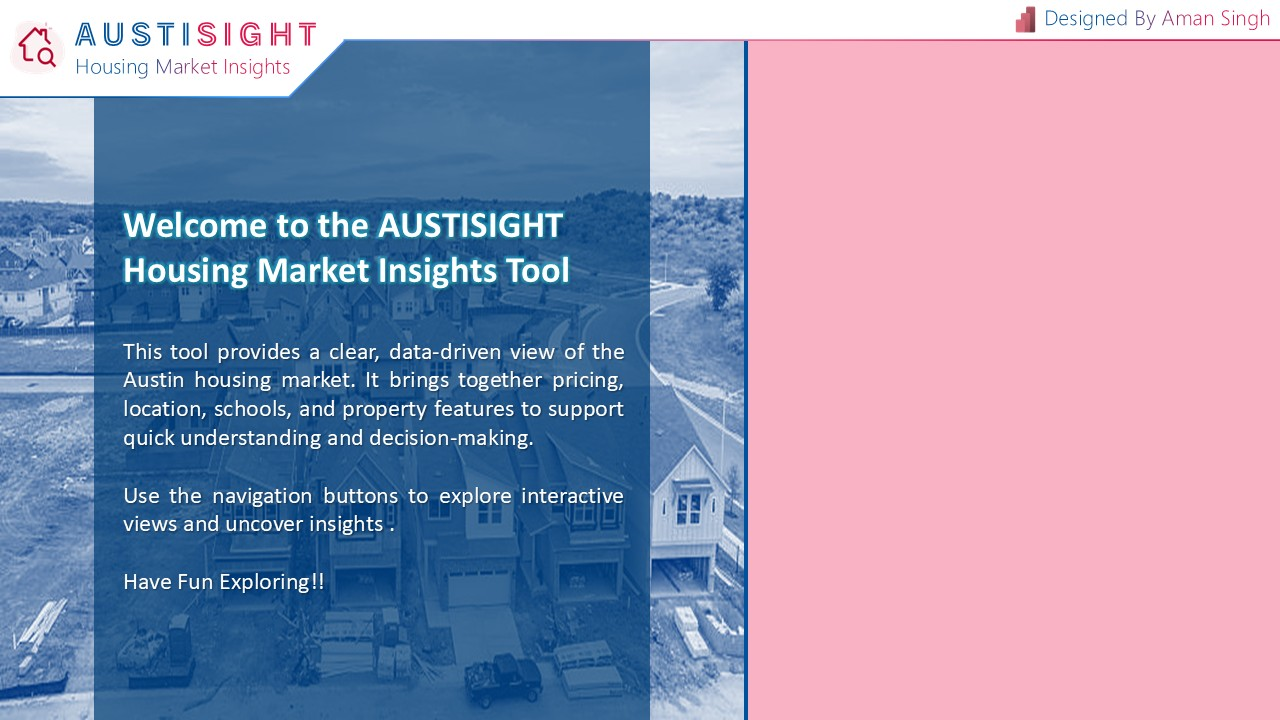

This screenshot's page, from the dashboard's own definition file:
{"tool":"powerbi","page":{"name":"Home Page","canvas":[1280,720],"ordinal":0},"visuals":[{"type":"actionButton","box":[795,105,438.8,108.8],"z":0},{"type":"actionButton","box":[795,256.7,438.8,108.8],"z":1},{"type":"actionButton","box":[795,408.3,438.8,108.8],"z":2},{"type":"actionButton","box":[795,560,438.8,108.8],"z":3}]}

Visuals, with their boxes in screenshot pixels (x1, y1, x2, y2), scaled from the page's 1280x720 canvas onto the 1280x720 screenshot:
actionButton: bbox(795, 105, 1234, 214)
actionButton: bbox(795, 257, 1234, 366)
actionButton: bbox(795, 408, 1234, 517)
actionButton: bbox(795, 560, 1234, 669)
